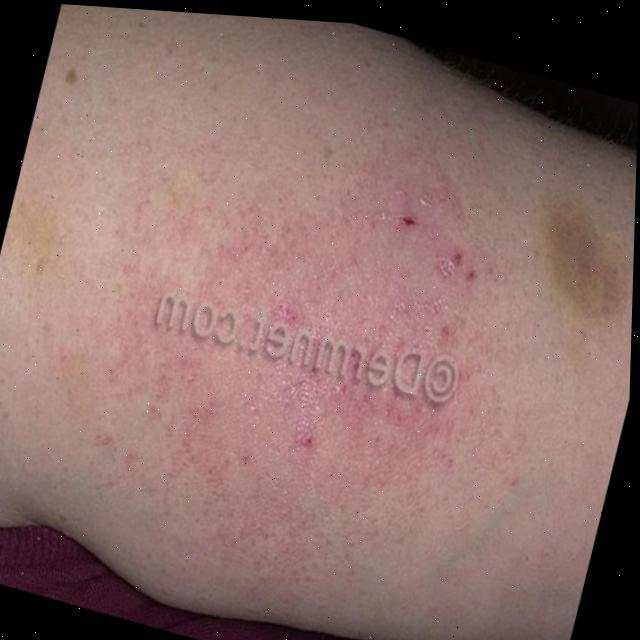Eczema: (160, 112, 528, 541)
